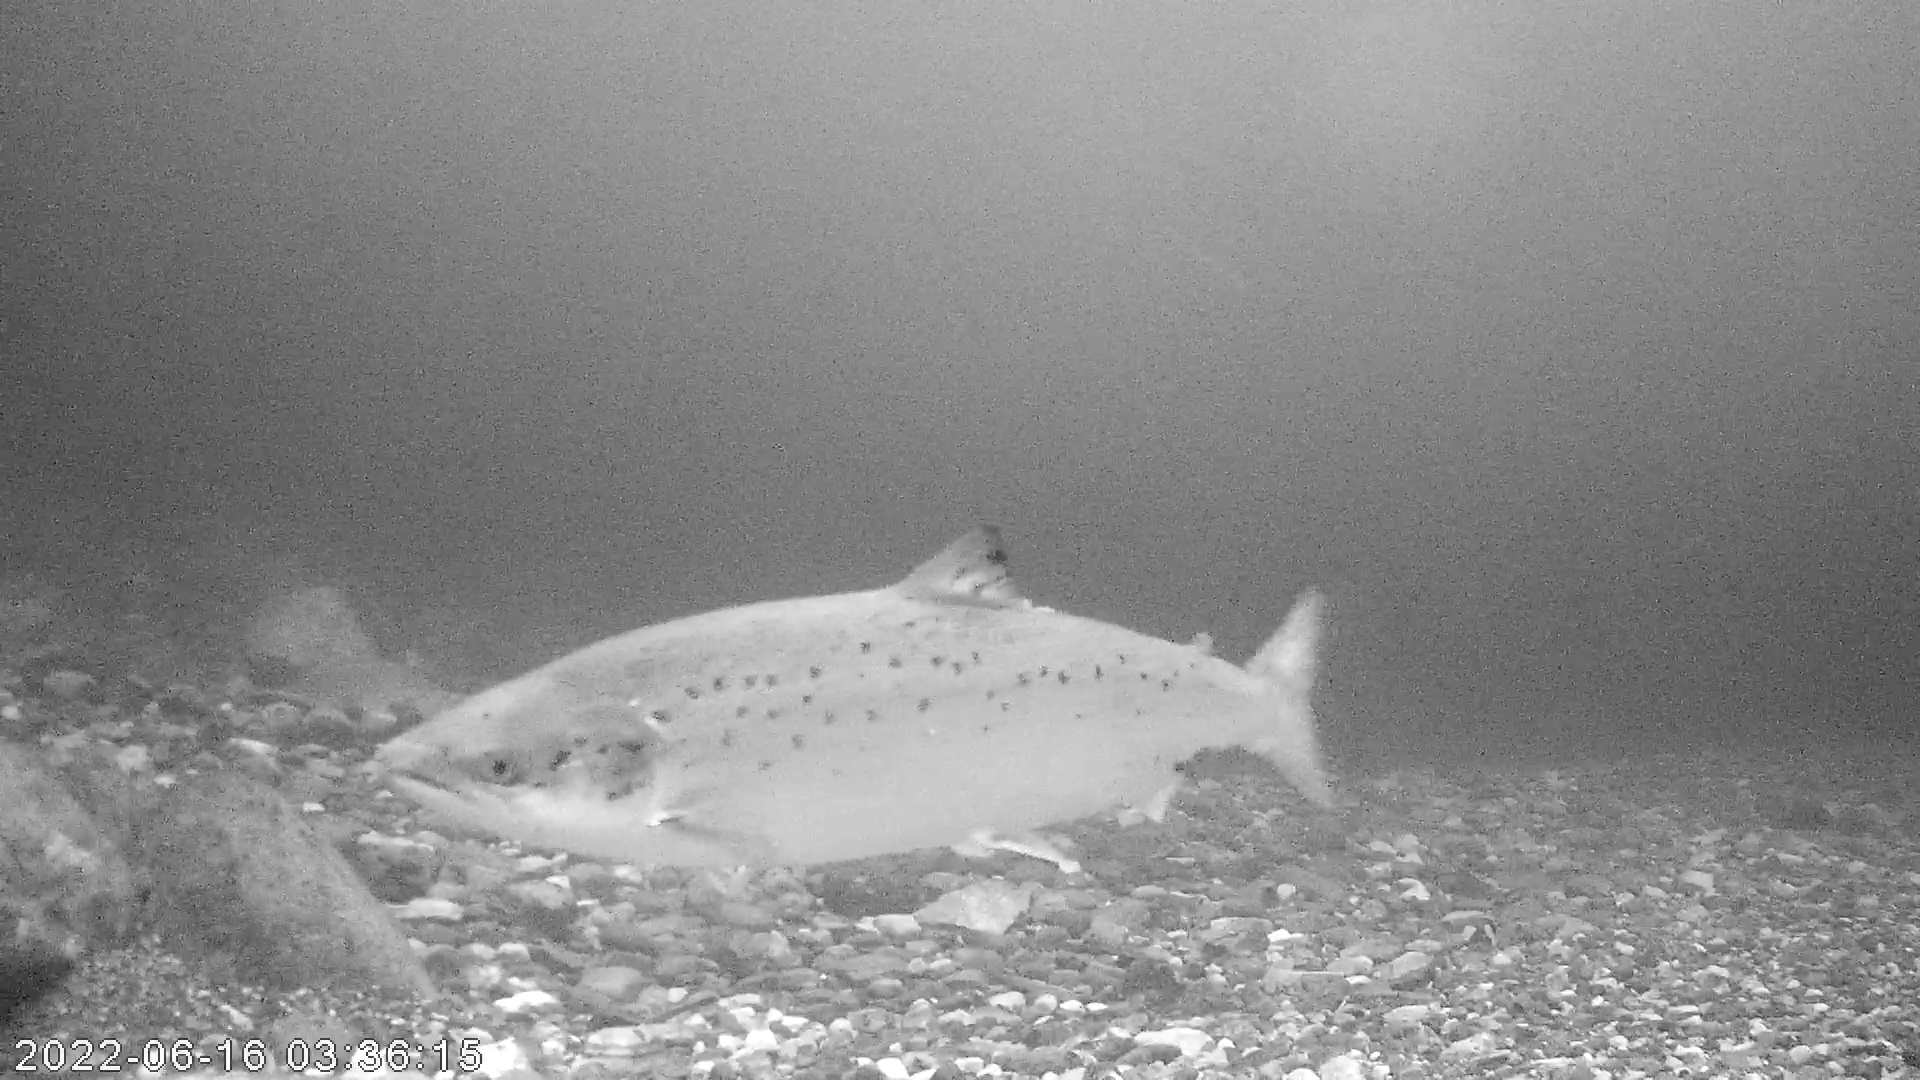salmon: (377, 522, 1336, 872)
